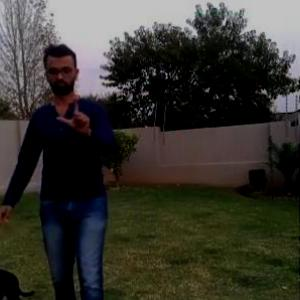land_hand: (53, 90, 95, 138)
